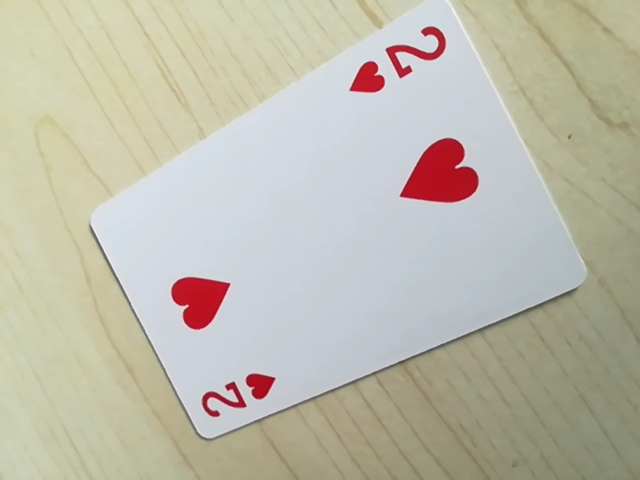hx 2: (343, 19, 451, 102), (192, 366, 281, 426)
